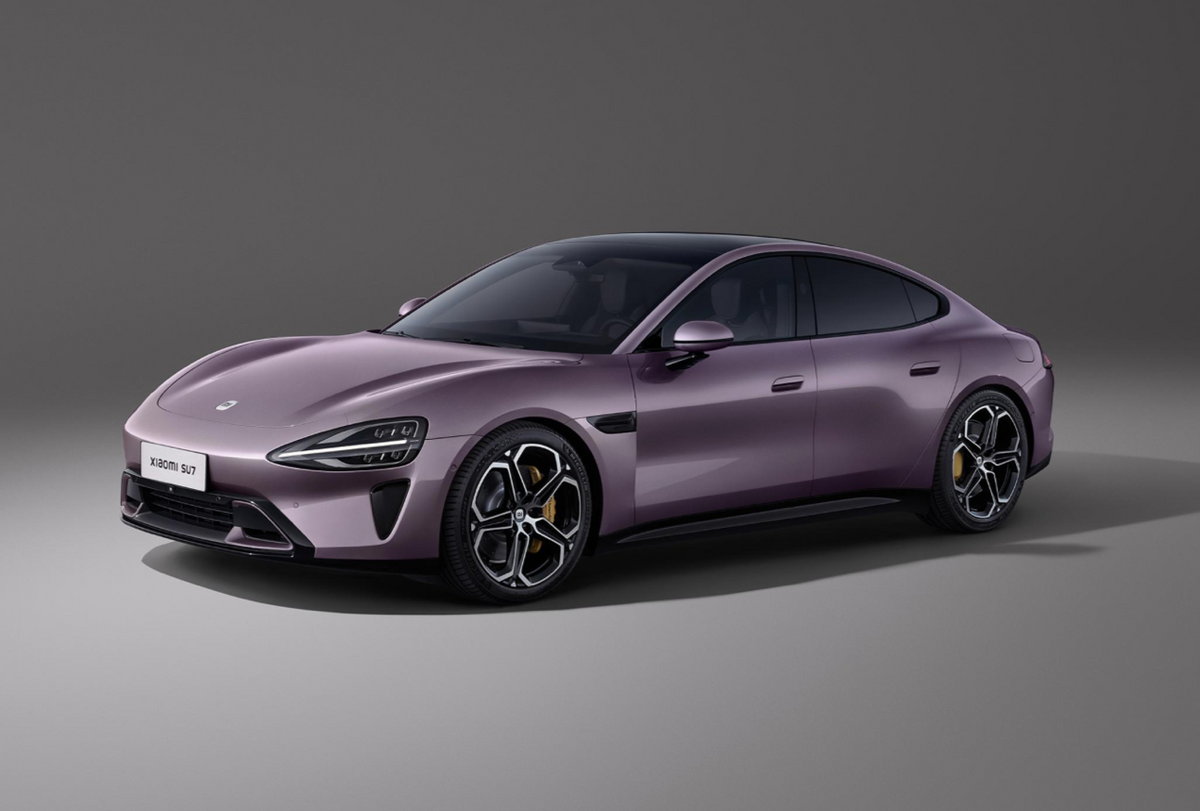su7: (98, 234, 1071, 593)
